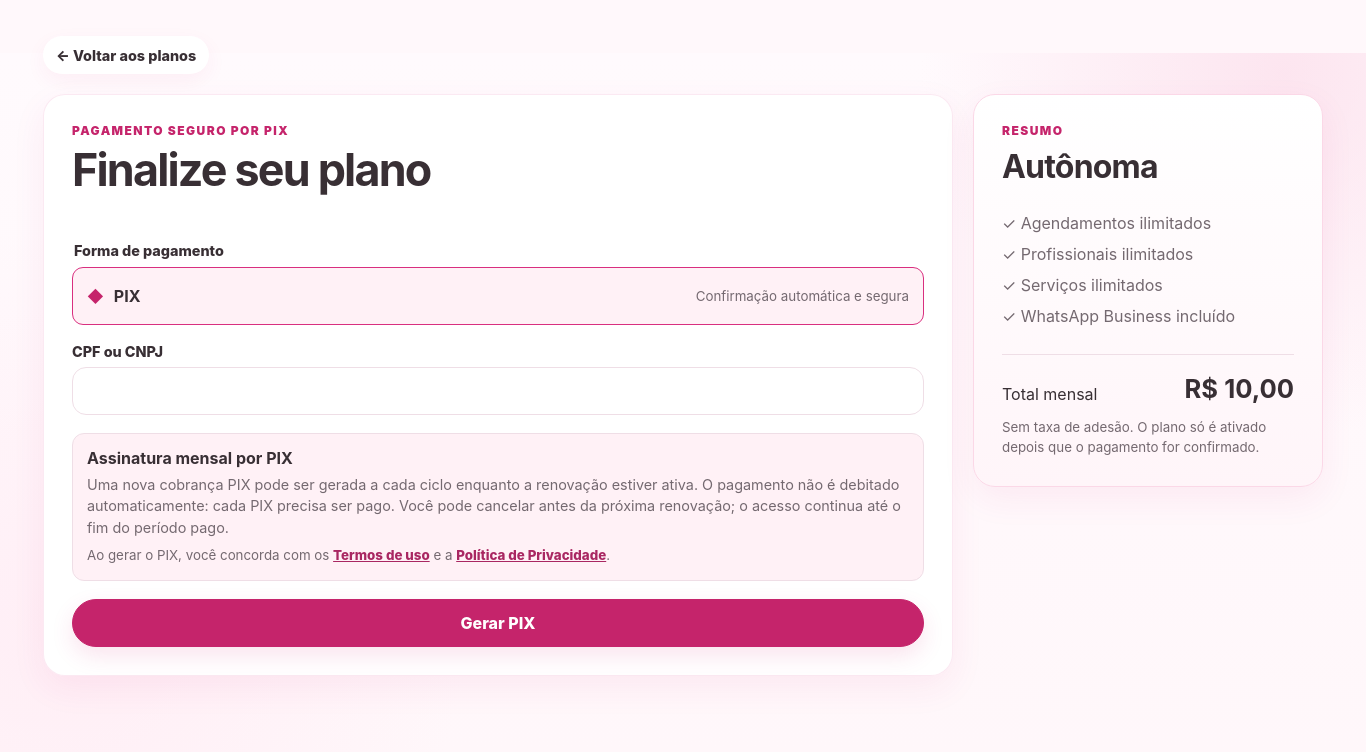
Test: checkout PIX › informa quando pagamento confirmado requer atenção operacional
expect the heading "Finalize seu plano" is shown: met, box [72,143,430,197]
Type "12345678901" into the field labelled "CPF ou CNPJ" at (498, 391), box [72,367,924,415]
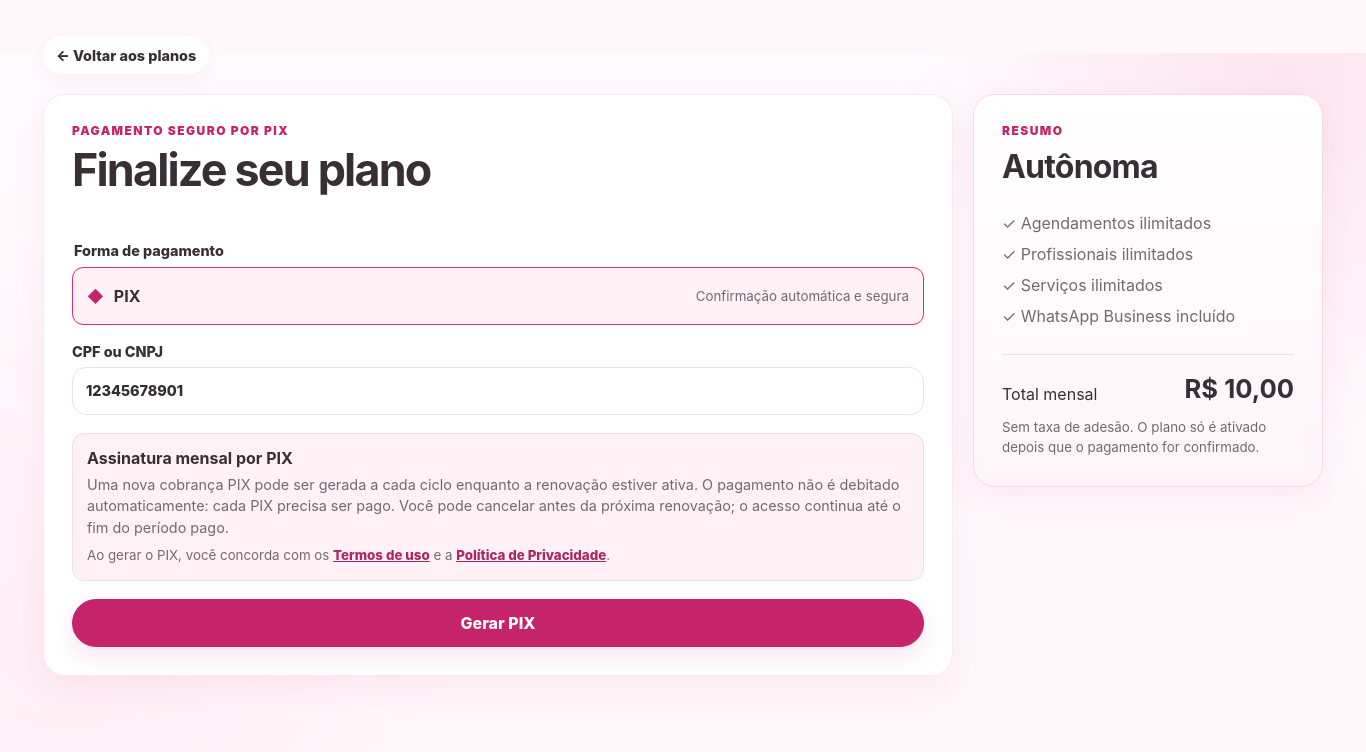
Submit the form named "Gerar PIX", box [43,94,953,676]
Wait 2500 ms
(page scrolled)
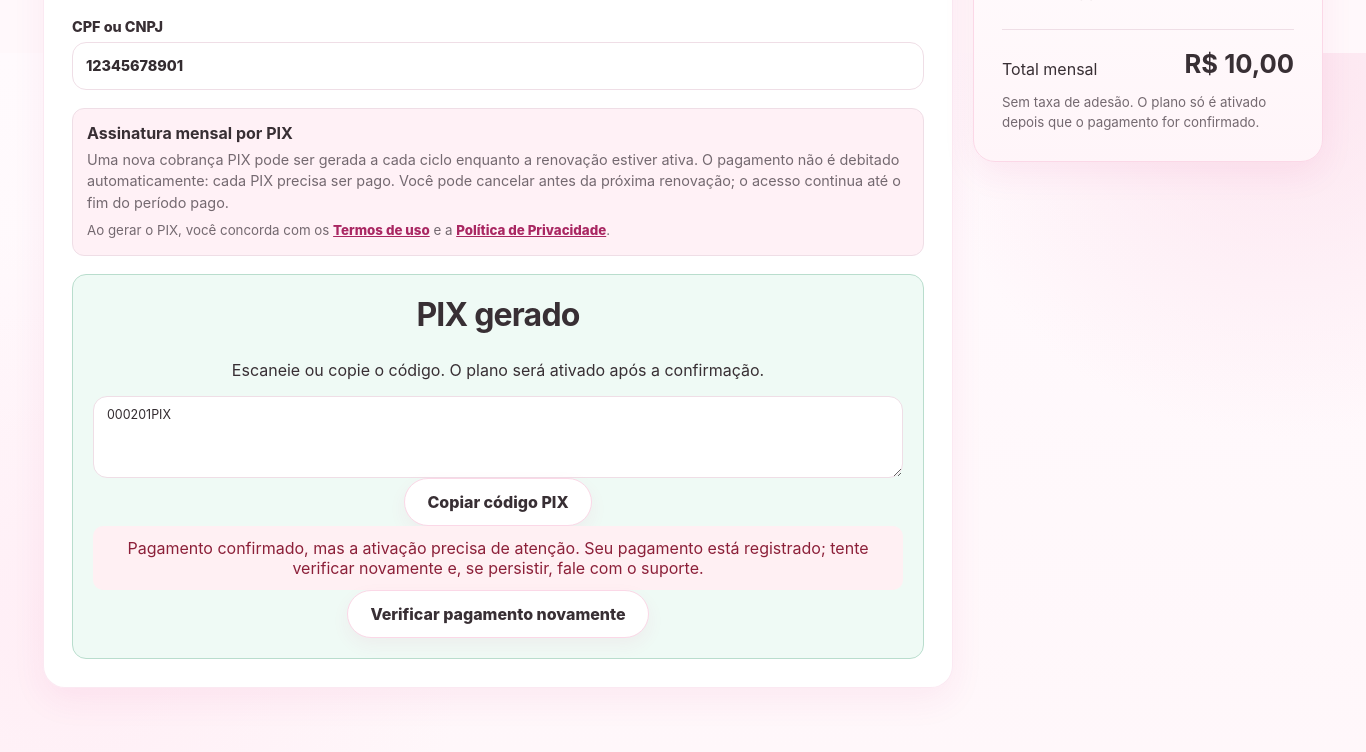
expect the heading "PIX gerado" is shown: met, box [416,295,580,334]
expect the text "ativação precisa de atenção" is shown: met, box [128,538,869,578]
expect the button "Verificar pagamento novamente" is shown: met, box [347,590,649,638]
